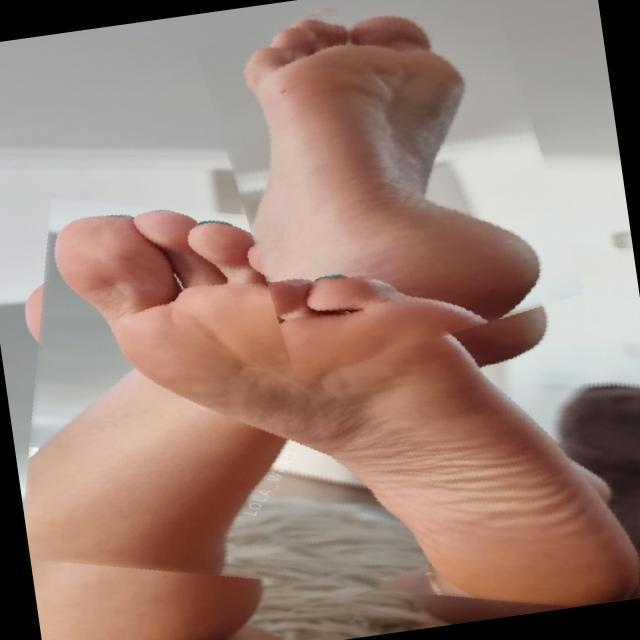Barefoots: (38, 191, 640, 616), (241, 11, 567, 335)
